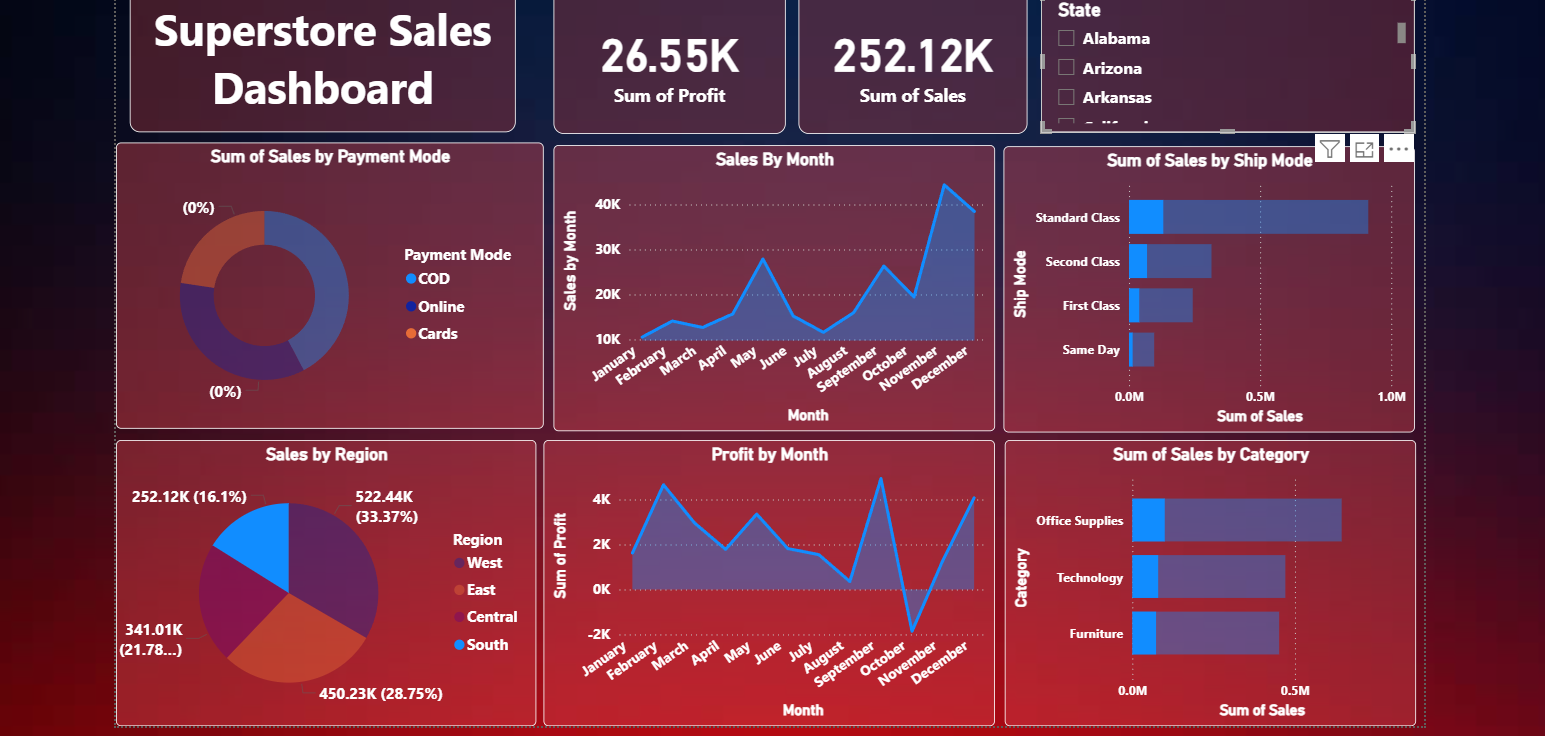

What the dashboard file says about the page in this screenshot:
{"tool":"powerbi","page":{"name":"Page 1","canvas":[1280,720],"ordinal":0},"visuals":[{"type":"donutChart","fields":{"Y":["Sum(SuperStore_Sales_Dataset (2).Sales)"],"Category":["SuperStore_Sales_Dataset (2).Payment Mode"]},"box":[0,149.2,418.2,280],"z":0},{"type":"pieChart","title":" Sales by Region","fields":{"Category":["SuperStore_Sales_Dataset (2).Region"],"Y":["Sum(SuperStore_Sales_Dataset (2).Sales)"]},"box":[0,440.2,410.9,280],"z":1000},{"type":"areaChart","title":"Sales By Month","fields":{"Y":["Sum(SuperStore_Sales_Dataset (2).Sales)"],"Category":["SuperStore_Sales_Dataset (2).Order Date.Variation.Date Hierarchy.Month"]},"box":[428,151.6,431.7,280],"z":2000},{"type":"areaChart","title":"Profit by Month","fields":{"Y":["Sum(SuperStore_Sales_Dataset (2).Profit)"],"Category":["SuperStore_Sales_Dataset (2).Order Date.Variation.Date Hierarchy.Month"]},"box":[418.2,440.2,441.4,280],"z":3000},{"type":"barChart","fields":{"Y":["Sum(SuperStore_Sales_Dataset (2).Sales)"],"Category":["SuperStore_Sales_Dataset (2).Category"]},"box":[869.4,440.2,402.3,280],"z":4000},{"type":"barChart","fields":{"Y":["Sum(SuperStore_Sales_Dataset (2).Sales)"],"Category":["SuperStore_Sales_Dataset (2).Ship Mode"]},"box":[868.2,152.9,402.3,280],"z":5000},{"type":"card","fields":{"Values":["Sum(SuperStore_Sales_Dataset (2).Profit)"]},"box":[428,0,227.4,140.6],"z":6000},{"type":"card","fields":{"Values":["Sum(SuperStore_Sales_Dataset (2).Sales)"]},"box":[667.7,0,223.8,140.6],"z":7000},{"type":"textbox","box":[13.5,0,377.9,139.4],"z":8000},{"type":"slicer","fields":{"Values":["SuperStore_Sales_Dataset (2).State"]},"box":[904.9,0,365.6,139.4],"z":9000}]}

Visuals, with their boxes in screenshot pixels (x1, y1, x2, y2):
donutChart - Sum(SuperStore_Sales_Dataset (2).Sales) x SuperStore_Sales_Dataset (2).Payment Mode: detection(129, 142, 551, 425)
" Sales by Region" pieChart: detection(129, 436, 543, 718)
"Sales By Month" areaChart: detection(560, 145, 996, 427)
"Profit by Month" areaChart: detection(551, 436, 996, 718)
barChart - Sum(SuperStore_Sales_Dataset (2).Sales) x SuperStore_Sales_Dataset (2).Category: detection(1006, 436, 1411, 718)
barChart - Sum(SuperStore_Sales_Dataset (2).Sales) x SuperStore_Sales_Dataset (2).Ship Mode: detection(1004, 146, 1410, 429)
card - Sum(SuperStore_Sales_Dataset (2).Profit): detection(560, 0, 790, 134)
card - Sum(SuperStore_Sales_Dataset (2).Sales): detection(802, 0, 1028, 134)
textbox: detection(142, 0, 523, 133)
slicer - SuperStore_Sales_Dataset (2).State: detection(1041, 0, 1410, 133)
